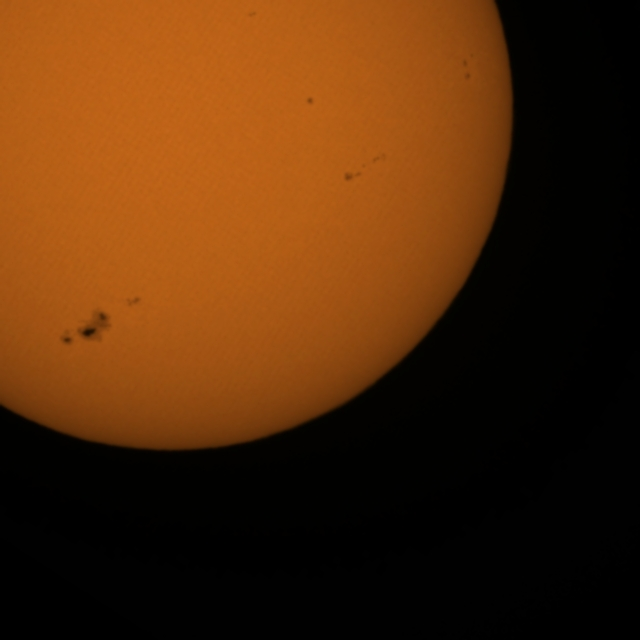sunspot: (56, 311, 114, 347), (342, 158, 369, 183), (461, 50, 476, 83), (371, 150, 388, 166), (124, 294, 142, 309), (246, 9, 258, 19), (305, 96, 315, 107)
